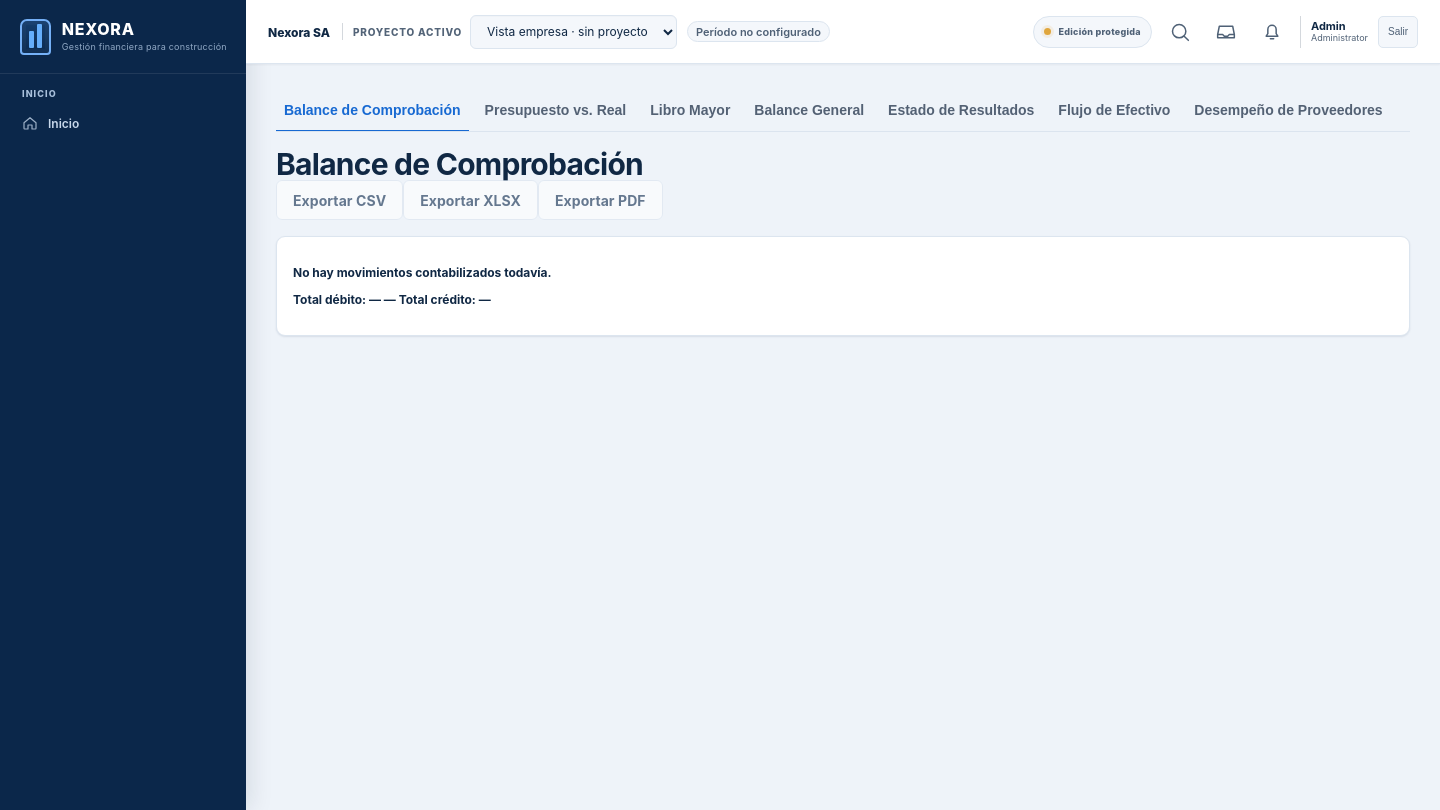
BudgetVsActualPage › loads and displays budget-vs-actual numbers straight from budget_service.compute_summary
Click the tab "Presupuesto vs. Real" at (555, 111), box [477, 90, 634, 132]
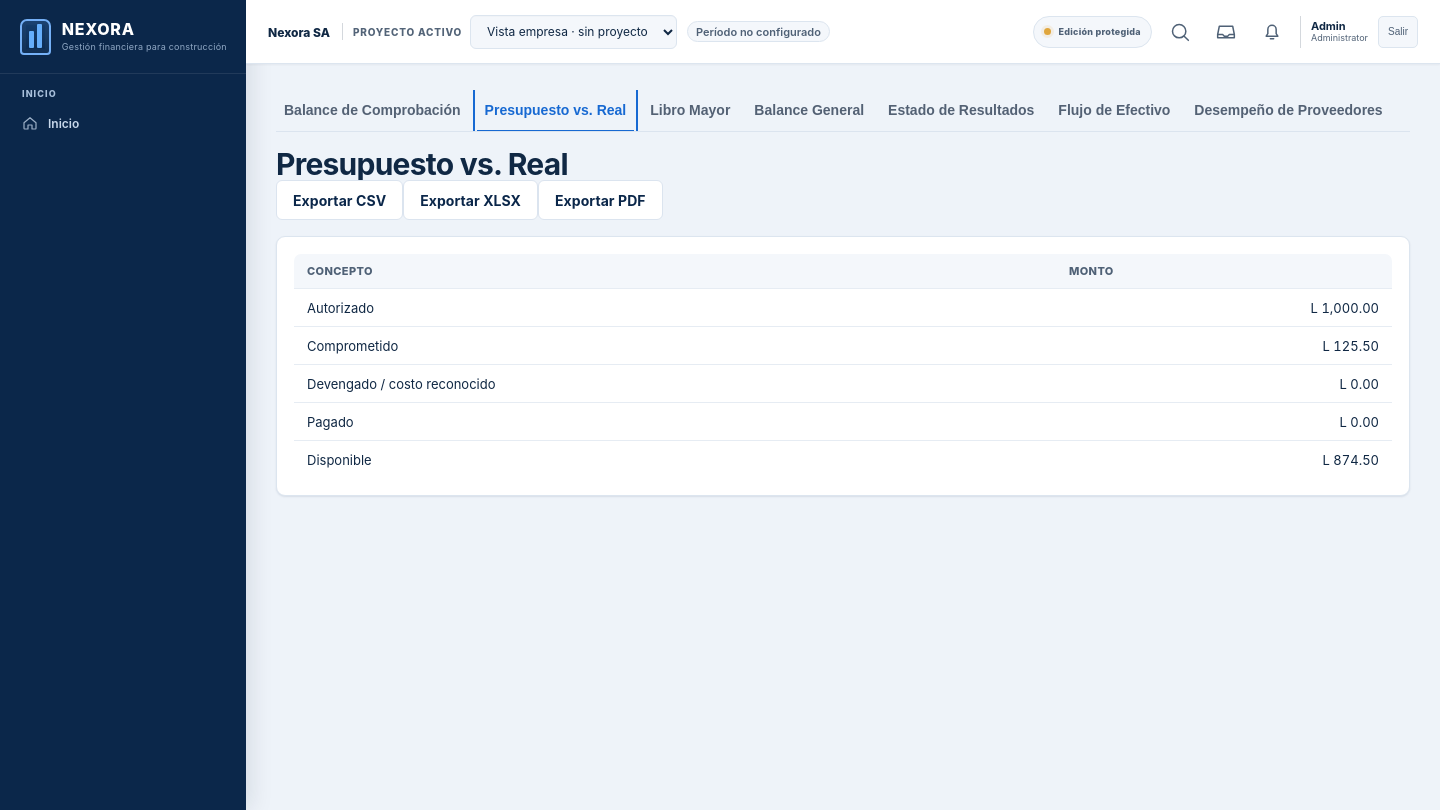
Check: the text "L 1,000.00" is shown, box [1056, 289, 1392, 327]
Check: the text "L 125.50" is shown, box [1056, 327, 1392, 365]
Check: the text "L 874.50" is shown, box [1056, 441, 1392, 479]
